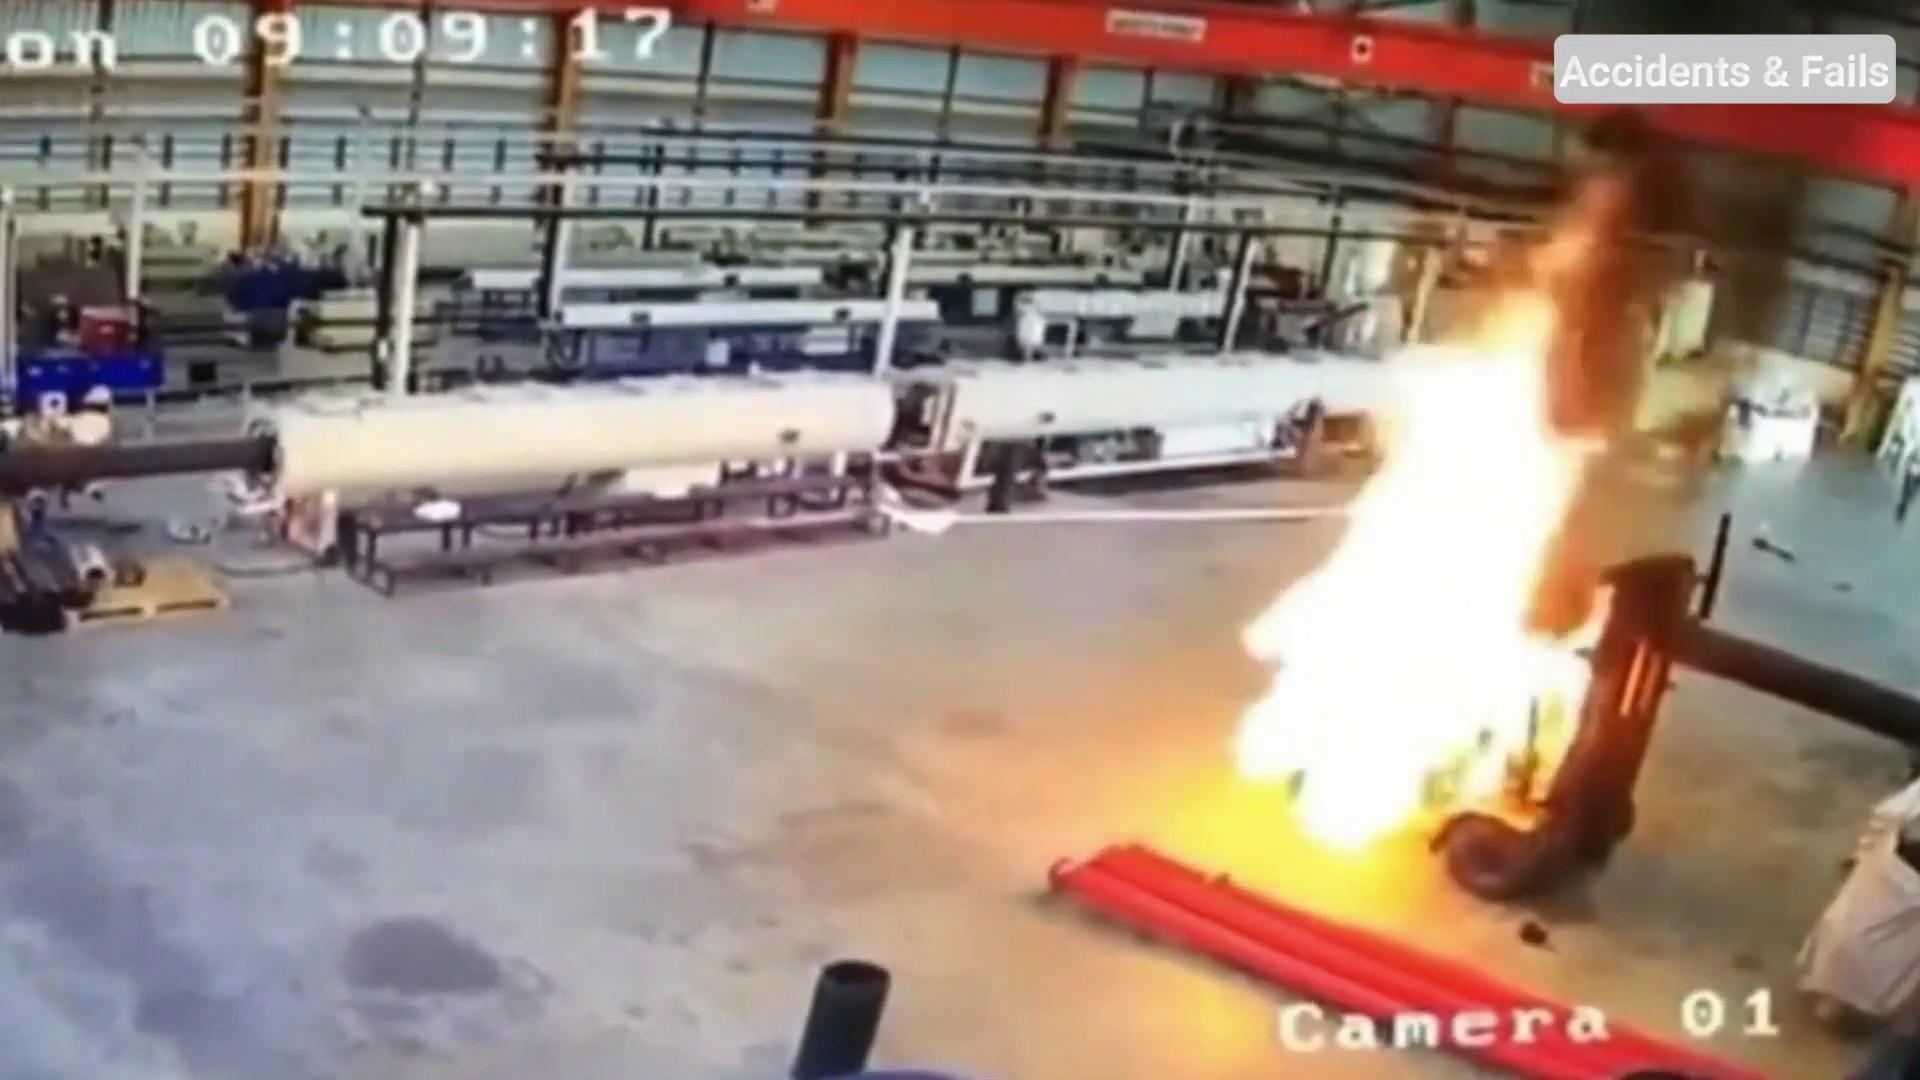fire: (1050, 108, 1727, 990)
